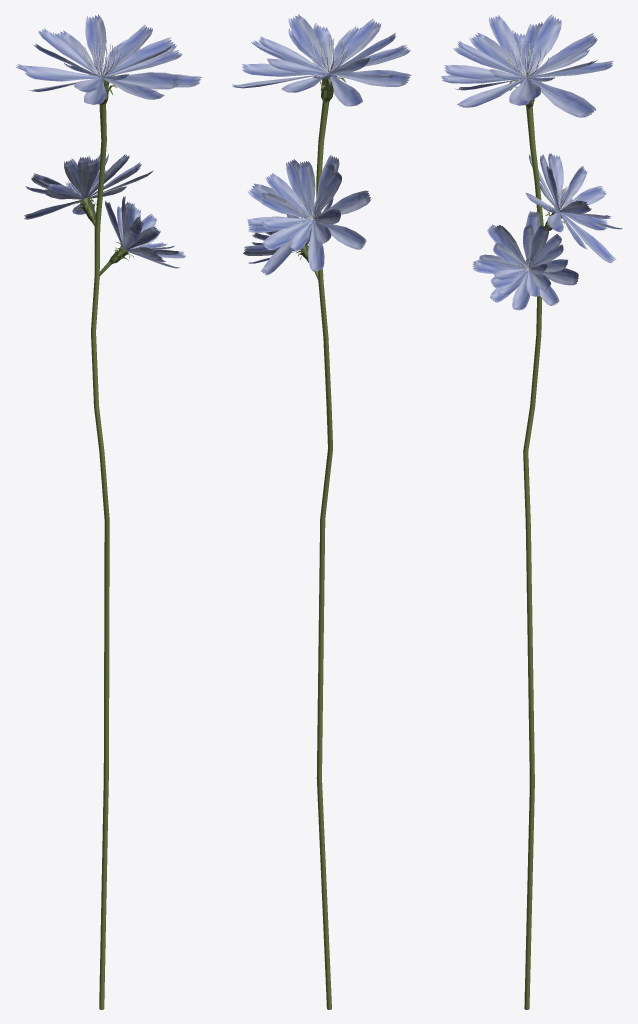
Rendered from flower_01.glb.
3 renders of one model, left to right at view 1: azimuth 30°, elevation 25°; view 2: azimuth 150°, elevation 25°; view 3: azimuth 270°, elevation 25°, orthographic.
Visible parts, largest first — view 1: stem.003, petal.014, petal.019, petal.009, petal.015, petal.012, petal.001; view 2: stem.003, petal.010, petal.004, petal.007, petal.028, petal.023, petal.031, petal.013, petal.030, petal.002, petal.034, petal.021 (+7 smaller); view 3: stem.003, petal.003, petal.005, petal.001, petal.020, petal.016, petal.018, petal.017, petal.041, petal.063, petal.057, petal.015 (+1 smaller).
Boxes of the visible parts, x1,y1,x2,y2 form: stem.003: [91, 79, 109, 1009]; petal.014: [85, 14, 106, 73]; petal.019: [104, 37, 176, 76]; petal.009: [104, 72, 182, 89]; petal.015: [23, 66, 99, 81]; petal.012: [105, 24, 152, 72]; petal.001: [38, 28, 98, 75]; stem.003: [316, 73, 336, 1009]; petal.010: [288, 14, 328, 70]; petal.004: [332, 70, 411, 86]; petal.007: [333, 18, 381, 69]; petal.028: [299, 161, 315, 216]; petal.023: [317, 221, 366, 249]; petal.031: [259, 192, 311, 218]; petal.013: [242, 63, 324, 76]; petal.030: [265, 173, 310, 216]; petal.002: [330, 75, 362, 106]; petal.034: [262, 221, 309, 250]; petal.021: [308, 222, 324, 271]; stem.003: [520, 77, 543, 1009]; petal.003: [528, 14, 561, 74]; petal.005: [488, 15, 526, 73]; petal.001: [528, 33, 597, 77]; petal.020: [537, 81, 595, 117]; petal.016: [469, 32, 522, 73]; petal.018: [457, 79, 524, 107]; petal.017: [444, 65, 502, 79]; petal.041: [561, 213, 615, 262]; petal.063: [529, 60, 613, 77]; petal.057: [492, 225, 527, 265]; petal.015: [523, 22, 542, 72].
Size of the model in its own units: 0.0423 by 0.25 by 0.0429.
